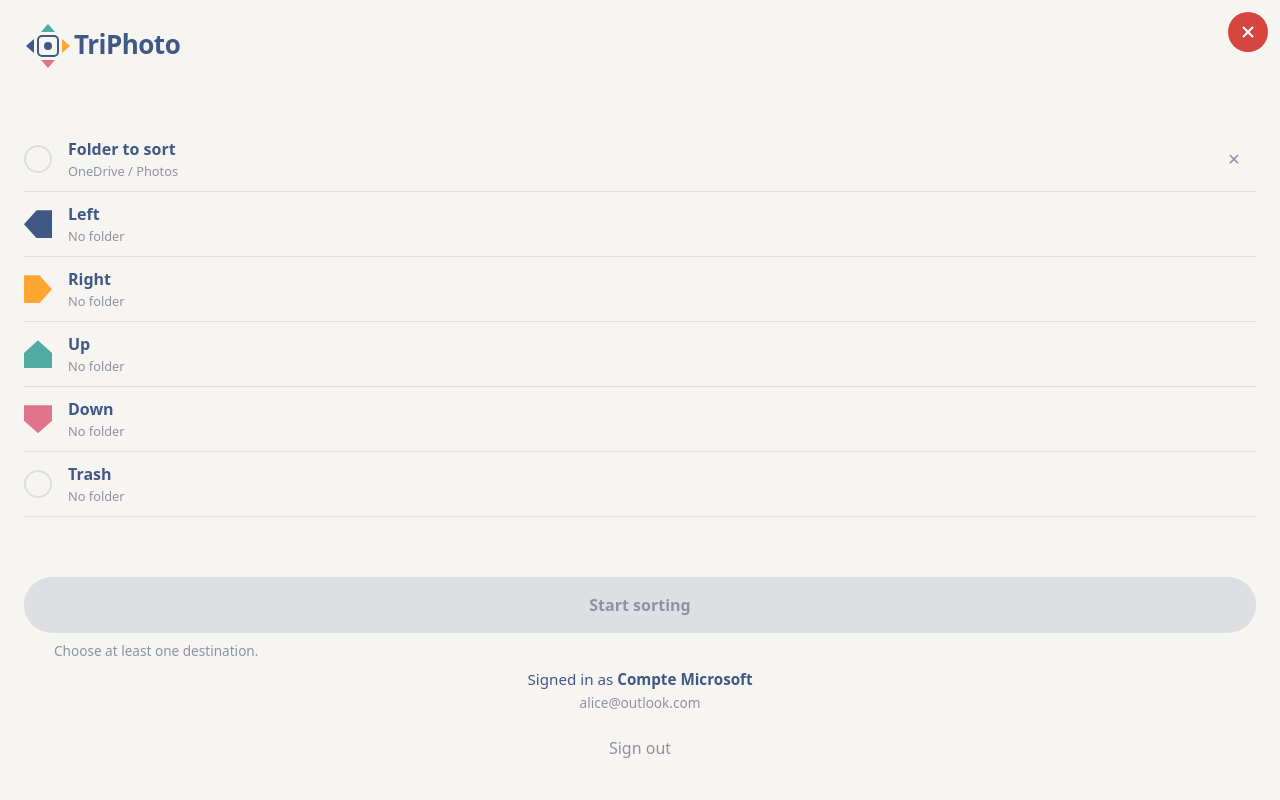
Scenario: écran de configuration › refuse d’affecter le même dossier à deux emplacements
Click the button "Left No folder" at {"x": 84, "y": 214}, box x1=24 y1=192 x2=1256 y2=256
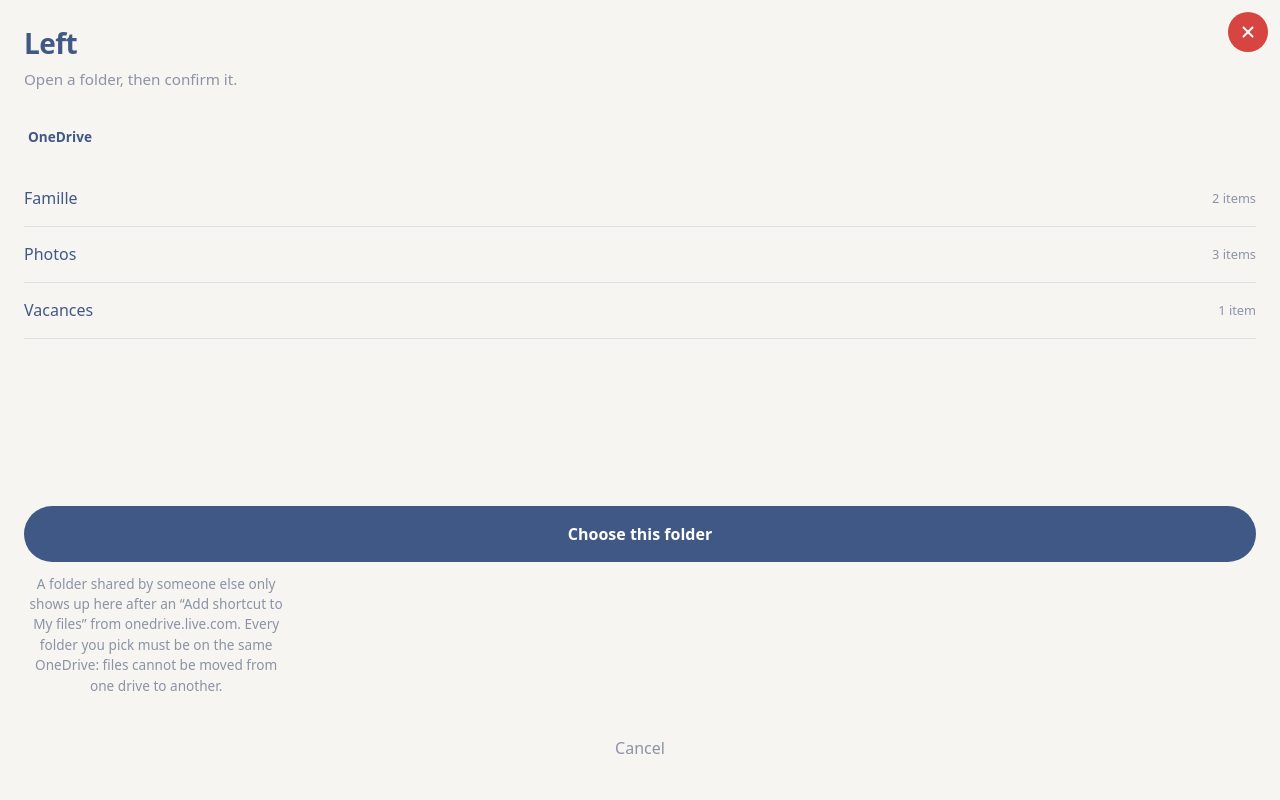
Click the button "Photos 3 items" at {"x": 50, "y": 254}, box x1=24 y1=227 x2=1256 y2=283
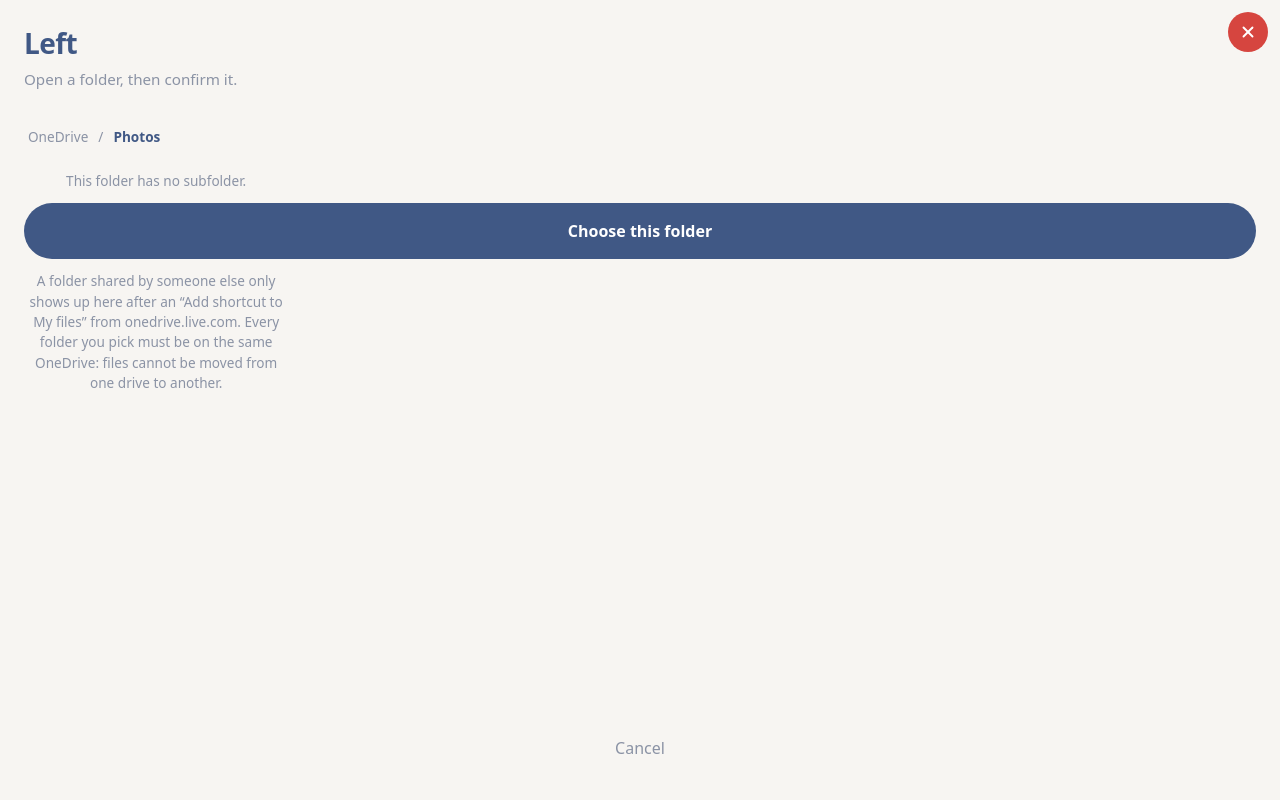
Click the button "Choose this folder" at {"x": 640, "y": 231}, box x1=24 y1=203 x2=1256 y2=259
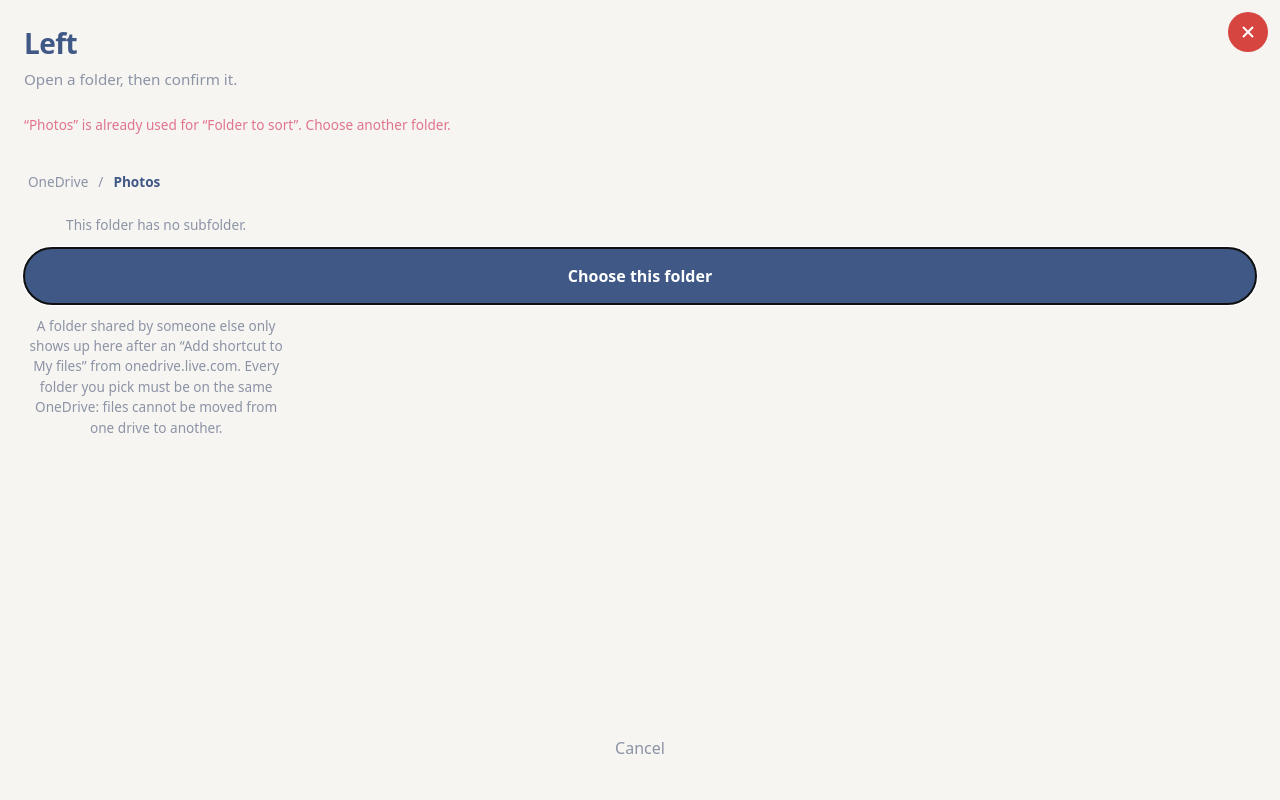
Expected: the message shows "Folder to sort", x1=24 y1=115 x2=451 y2=134
